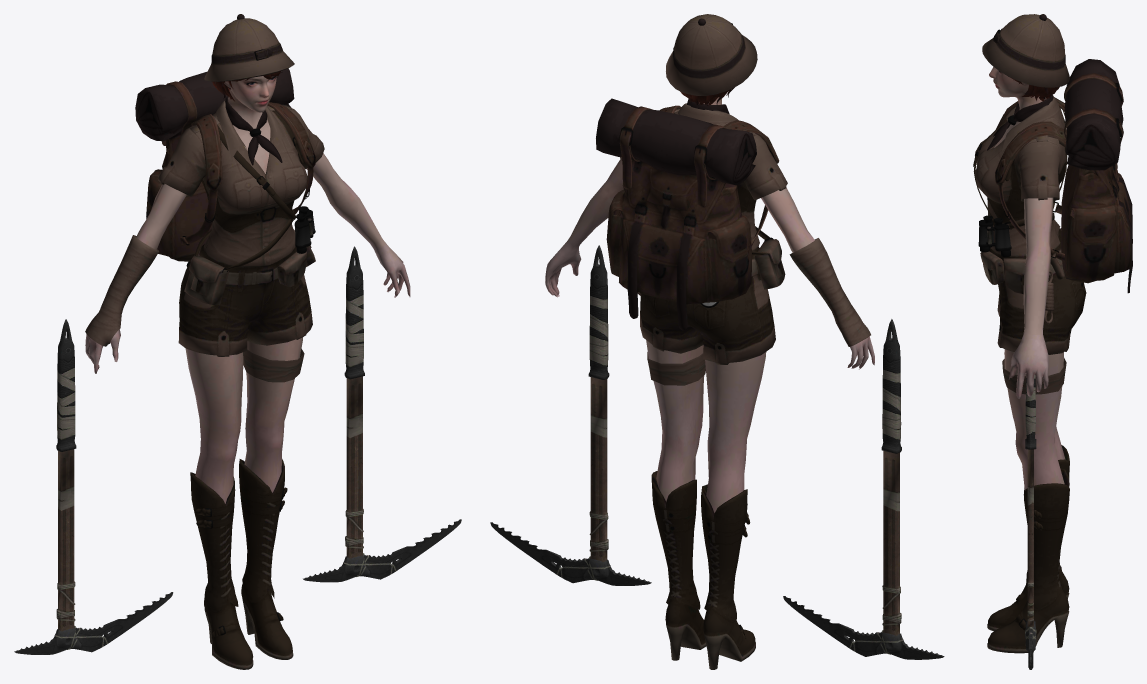
Rendered from Assassin_Explorer.FBX.
3 views of the same model, side by side, from view 1: azimuth 30°, elevation 25°; view 2: azimuth 150°, elevation 25°; view 3: azimuth 270°, elevation 25° (orthographic). The views are drawn at different scales.
Visible parts, largest first — view 1: Assassin_Body_Explorer001, Assassin_Cape_Explorer001, Assassin_Weapon_Explorer_L, Assassin_Weapon_Explorer_R, Assassin_Head_Explorer001, Assassin_Face001; view 2: Assassin_Body_Explorer001, Assassin_Cape_Explorer001, Assassin_Weapon_Explorer_L, Assassin_Weapon_Explorer_R, Assassin_Head_Explorer001; view 3: Assassin_Body_Explorer001, Assassin_Cape_Explorer001, Assassin_Head_Explorer001, Assassin_Weapon_Explorer_L, Assassin_Face001.
Boxes of the visible parts, x1,y1,x2,y2 form: Assassin_Body_Explorer001: (85, 89, 410, 669); Assassin_Cape_Explorer001: (135, 68, 315, 261); Assassin_Weapon_Explorer_L: (303, 246, 461, 582); Assassin_Weapon_Explorer_R: (14, 319, 173, 654); Assassin_Head_Explorer001: (204, 14, 294, 101); Assassin_Face001: (224, 76, 277, 112); Assassin_Body_Explorer001: (545, 97, 874, 669); Assassin_Cape_Explorer001: (596, 98, 779, 330); Assassin_Weapon_Explorer_L: (490, 245, 651, 585); Assassin_Weapon_Explorer_R: (783, 319, 944, 659); Assassin_Head_Explorer001: (666, 14, 757, 106); Assassin_Body_Explorer001: (973, 94, 1086, 653); Assassin_Cape_Explorer001: (995, 59, 1132, 293); Assassin_Head_Explorer001: (982, 14, 1069, 101); Assassin_Weapon_Explorer_L: (1025, 374, 1036, 669); Assassin_Face001: (989, 67, 1028, 97).
Size of the model in its own units: 144 by 194 by 45.14.
Materials: 5 (5 with a texture image).
